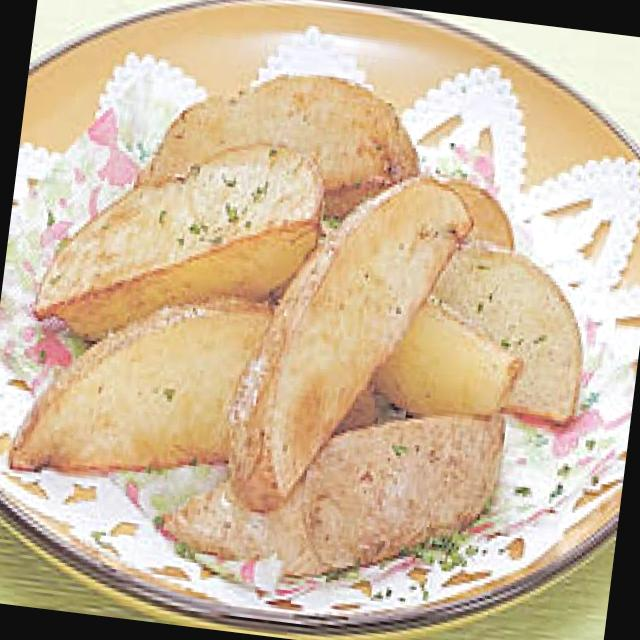French Fries: (11, 34, 599, 576)
